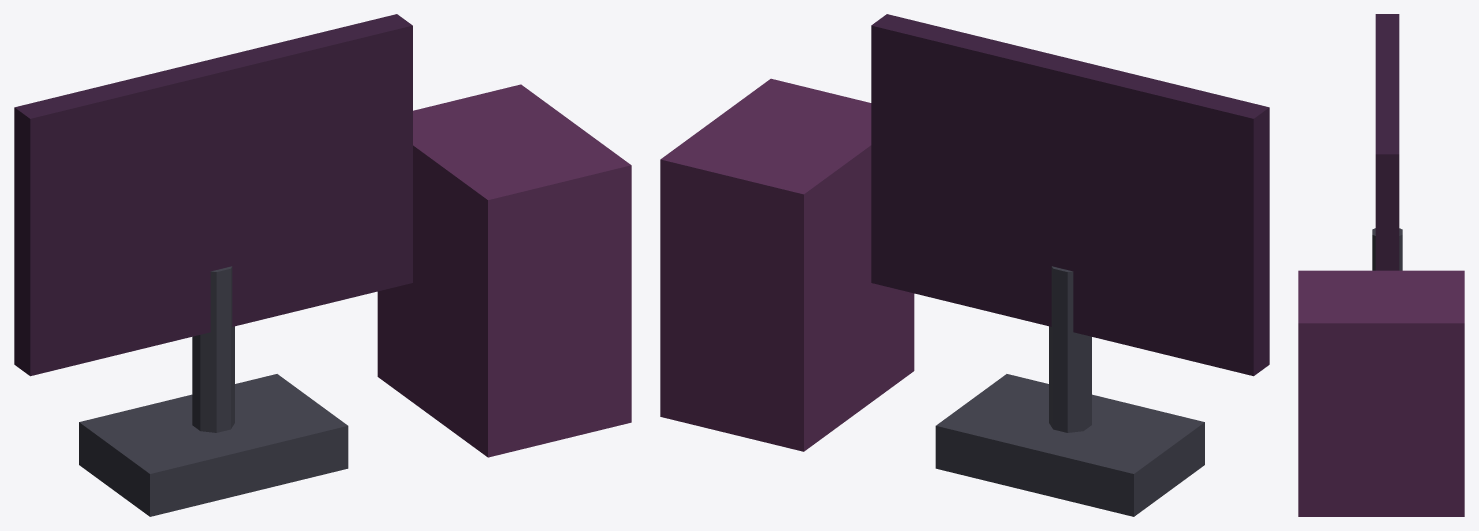
Rendered from computer.obj.
3 views of the same model, side by side, from view 1: azimuth 30°, elevation 25°; view 2: azimuth 150°, elevation 25°; view 3: azimuth 270°, elevation 25° (orthographic). The views are drawn at different scales.
Parts seen in each view (by area): view 1: monitor-screen, mini-tower, monitor-foot, monitor-neck; view 2: monitor-screen, mini-tower, monitor-foot, monitor-neck; view 3: mini-tower, monitor-screen, monitor-neck.
Part boxes in pixels (x1=…): monitor-screen: x1=14, y1=14, x2=412, y2=376; mini-tower: x1=377, y1=84, x2=631, y2=457; monitor-foot: x1=79, y1=374, x2=348, y2=516; monitor-neck: x1=192, y1=266, x2=234, y2=432; monitor-screen: x1=871, y1=14, x2=1269, y2=376; mini-tower: x1=660, y1=78, x2=914, y2=451; monitor-foot: x1=935, y1=374, x2=1204, y2=516; monitor-neck: x1=1049, y1=266, x2=1091, y2=432; mini-tower: x1=1298, y1=270, x2=1464, y2=516; monitor-screen: x1=1375, y1=14, x2=1399, y2=270; monitor-neck: x1=1372, y1=228, x2=1402, y2=270.
Bounding box in the file's own units: 1.61 × 1.12 × 0.56.
